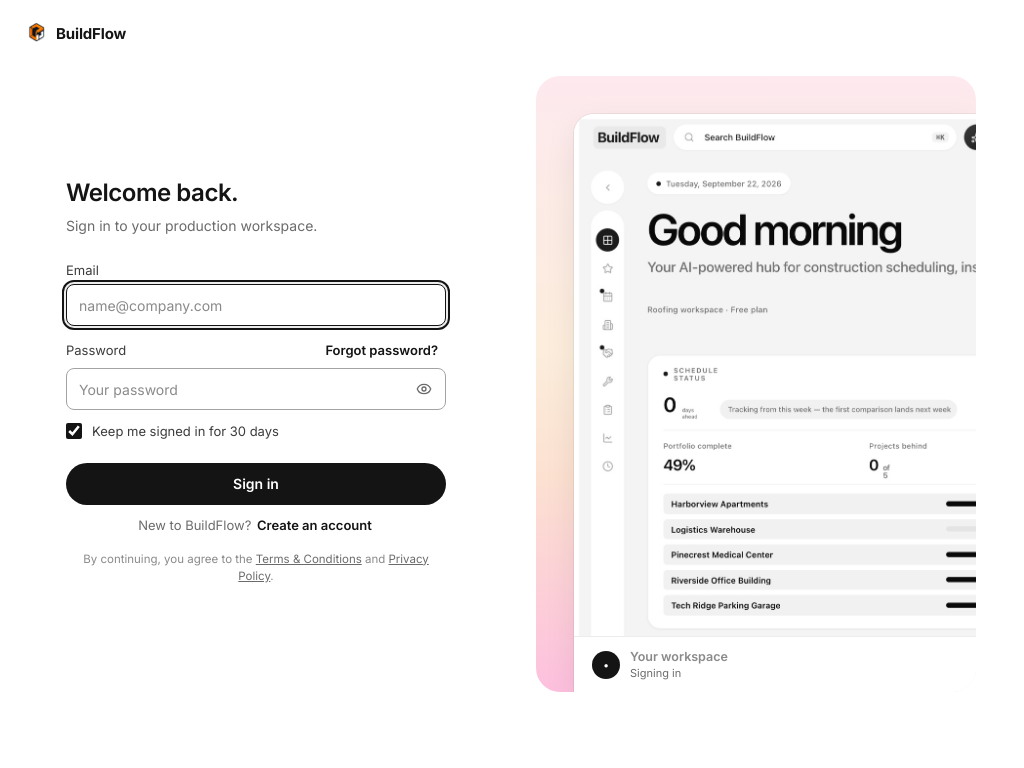
Test: signing in › does not say which half of a refused sign-in was wrong
Type "ops@reyespaving.com" into the field labelled "Email" at point(256, 305), box [66,284,446,326]
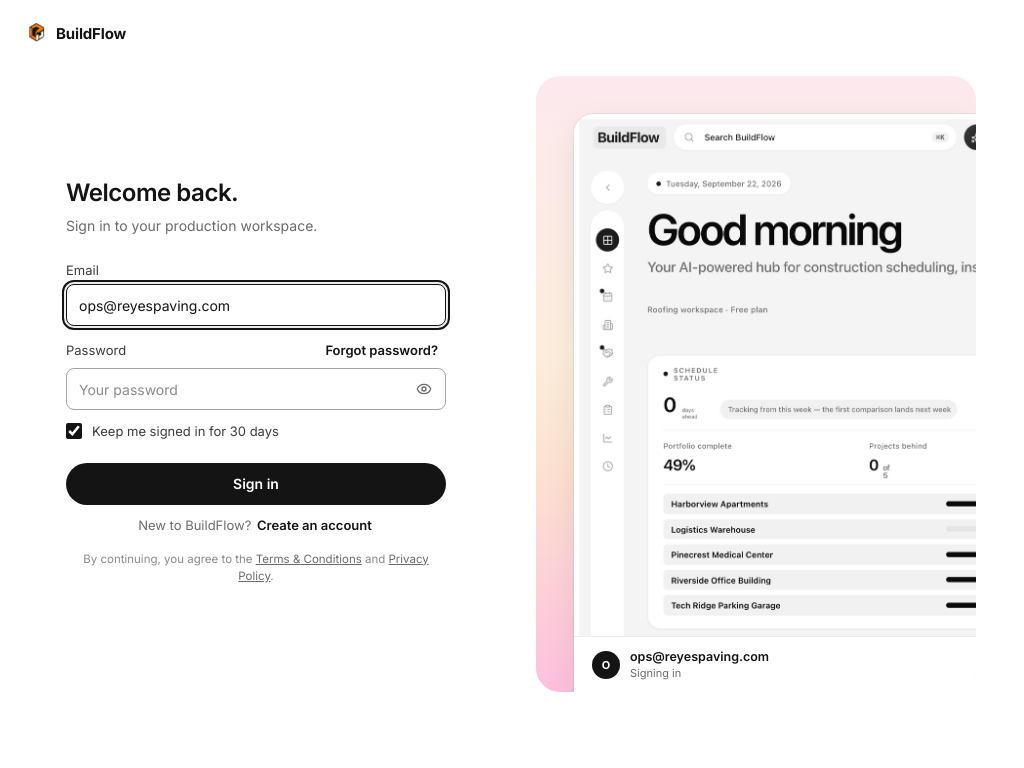
Type "wrong-password-here" into the password field labelled "Password" at point(256, 389), box [66,368,446,410]
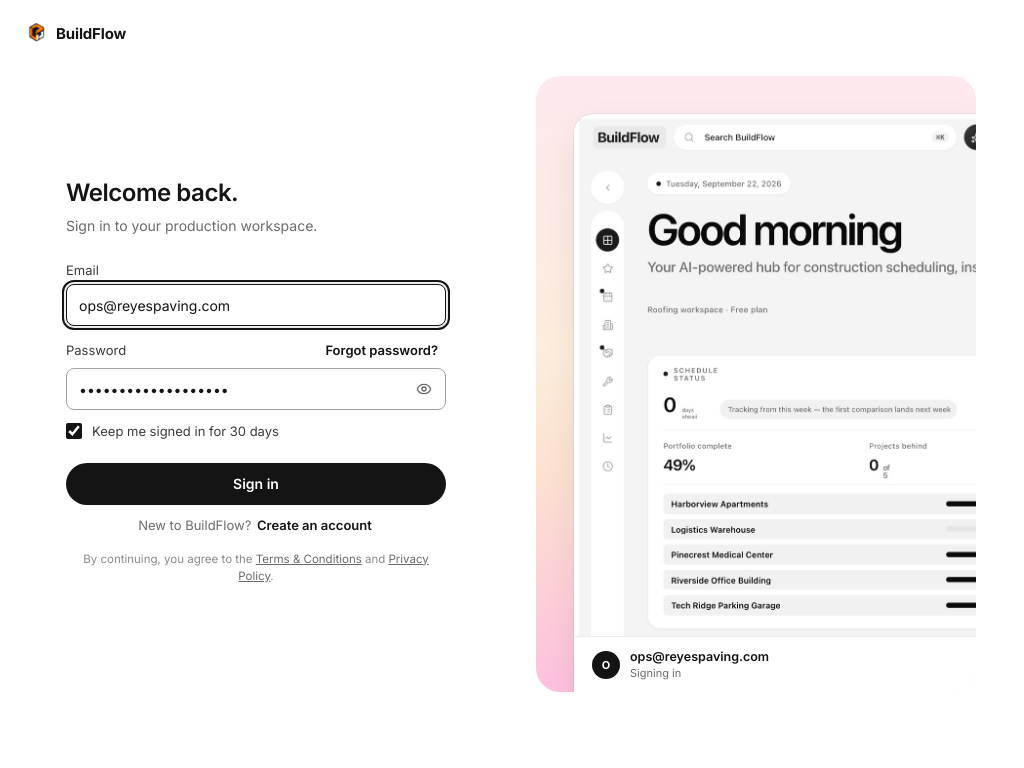
Click the button "Sign in" at point(256, 484), box [66,463,446,505]
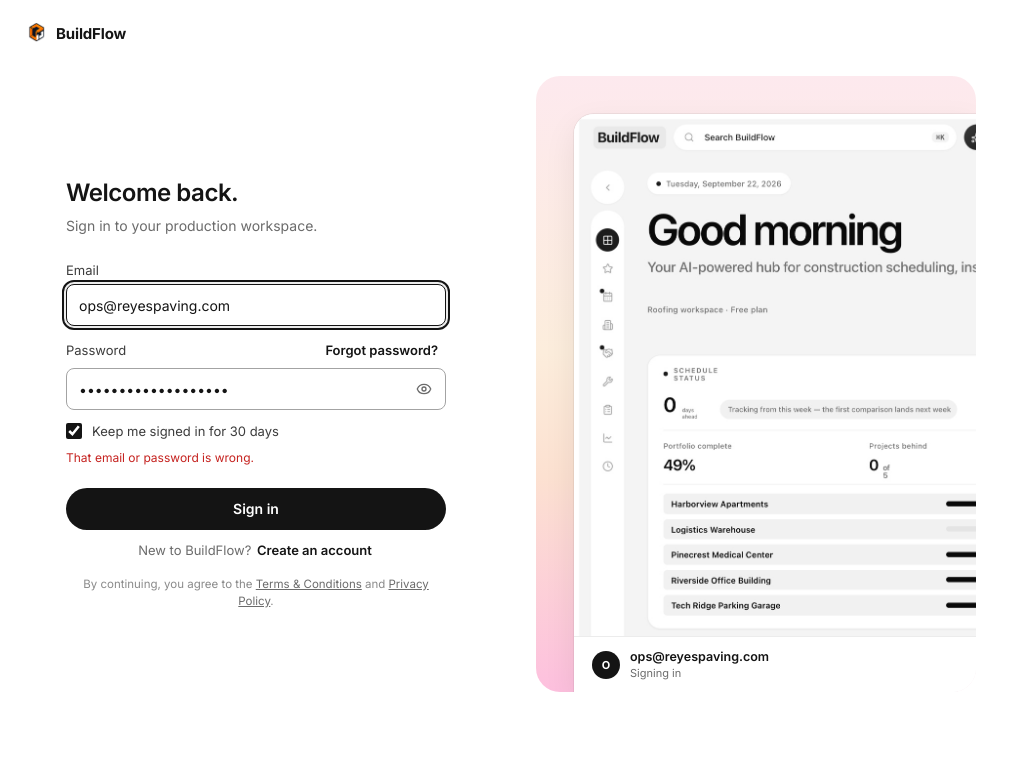
expect the button "Sign in" is enabled: met, box [66,488,446,530]
expect the message reads "That email or password is wrong.": met, box [66,450,254,465]
expect the number of messages is 1: met, box [66,450,254,465]
